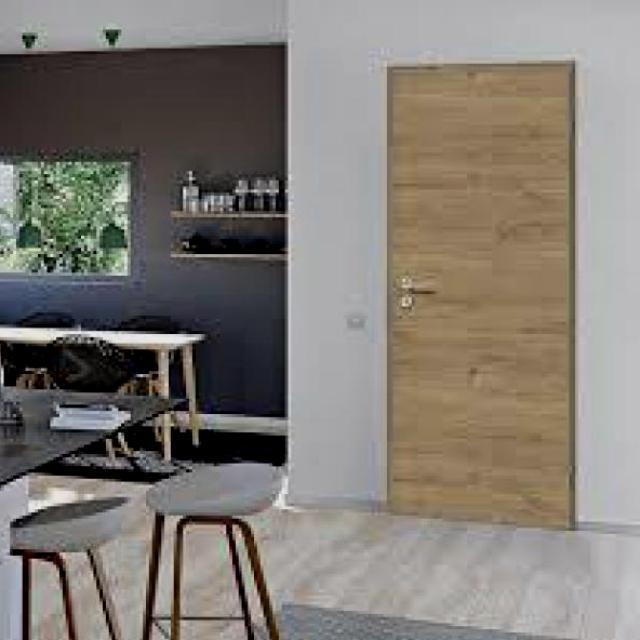door: (385, 60, 575, 529)
